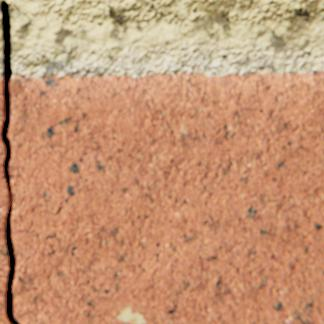broken_brick: (8, 70, 323, 323), (0, 77, 9, 323)
crack: (0, 1, 20, 323)
